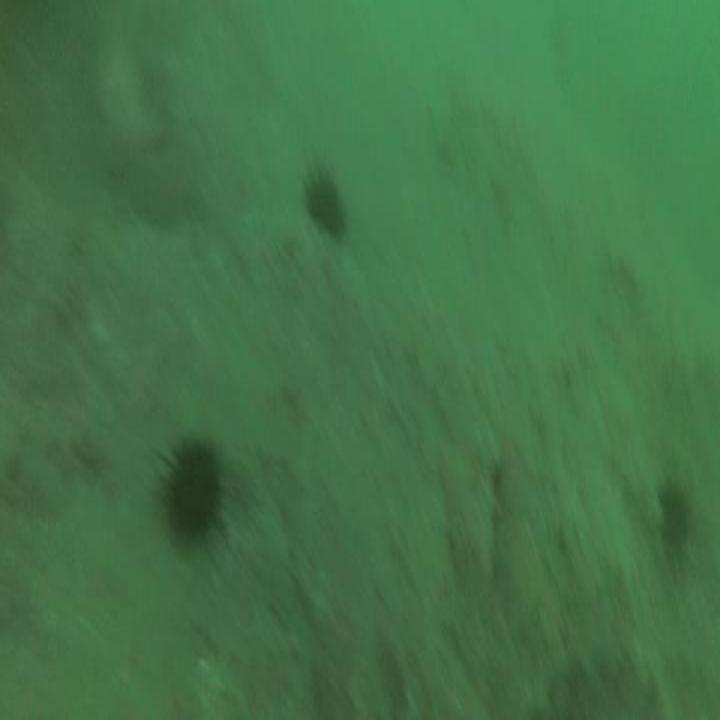echinus: (166, 441, 221, 537), (306, 176, 342, 236), (660, 482, 690, 542)
